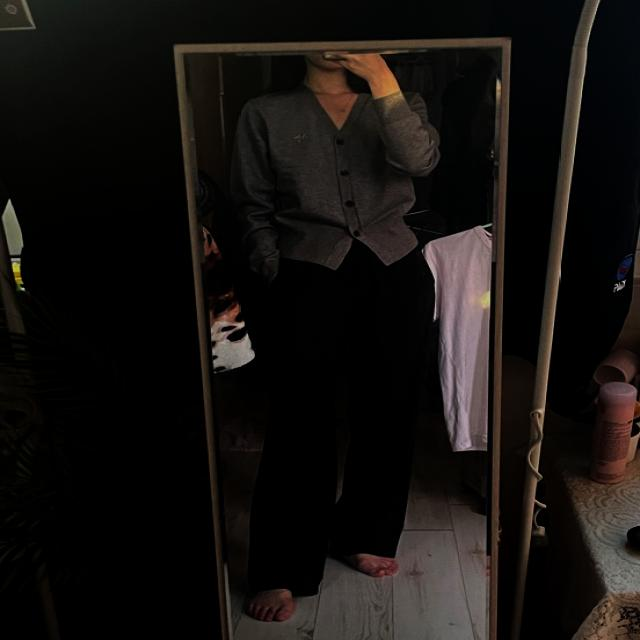cardigan: (229, 90, 445, 288)
slacks: (250, 236, 437, 592)
